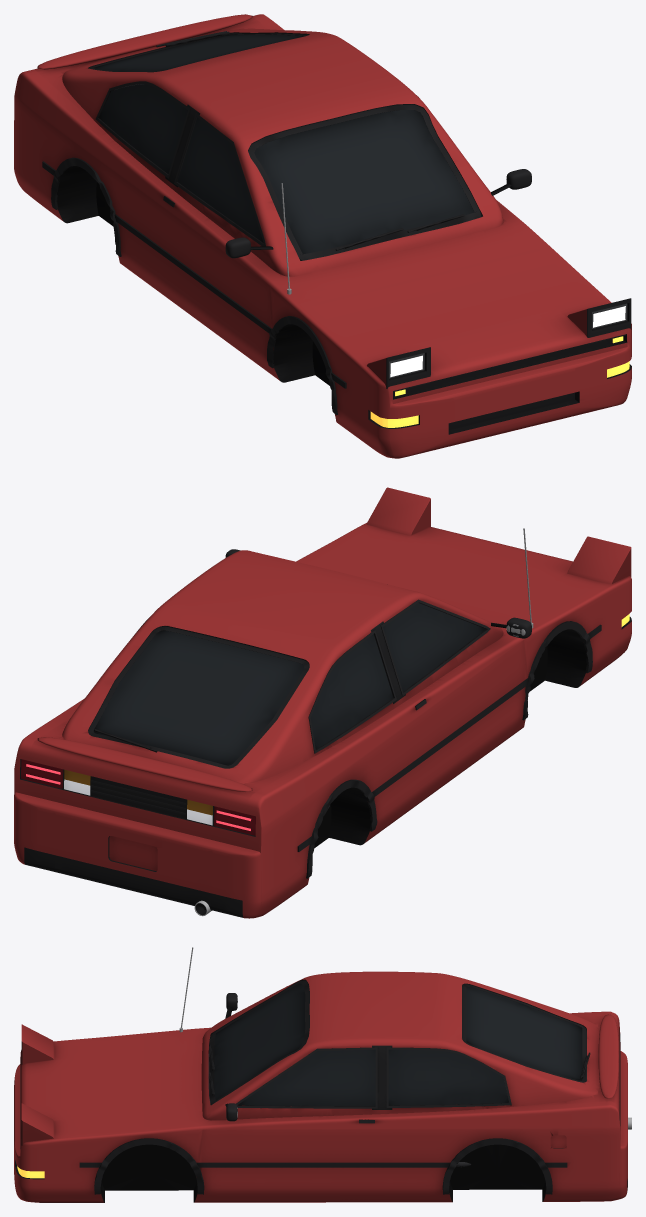
File: touge.glb
3 renders of one model, top to bottom at view 1: azimuth 30°, elevation 25°; view 2: azimuth 150°, elevation 25°; view 3: azimuth 270°, elevation 25°, orthographic. The views are drawn at different scales.
Visible parts, largest first — view 1: paint, window, trim, grille, lens, amber; view 2: paint, window, trim, tail; view 3: paint, window, trim.
Boxes of the visible parts, <box> form: paint: <box>14,14,631,458</box>; window: <box>94,34,482,260</box>; trim: <box>42,31,631,434</box>; grille: <box>393,338,612,430</box>; lens: <box>390,306,625,377</box>; amber: <box>370,336,629,427</box>; paint: <box>14,487,631,918</box>; window: <box>93,603,485,765</box>; trim: <box>20,549,631,917</box>; tail: <box>21,759,255,835</box>; paint: <box>14,971,627,1202</box>; window: <box>211,983,582,1105</box>; trim: <box>15,979,627,1202</box>.
Size of what is drawn, in the model's own units: 1.94 by 1.23 by 4.26.
